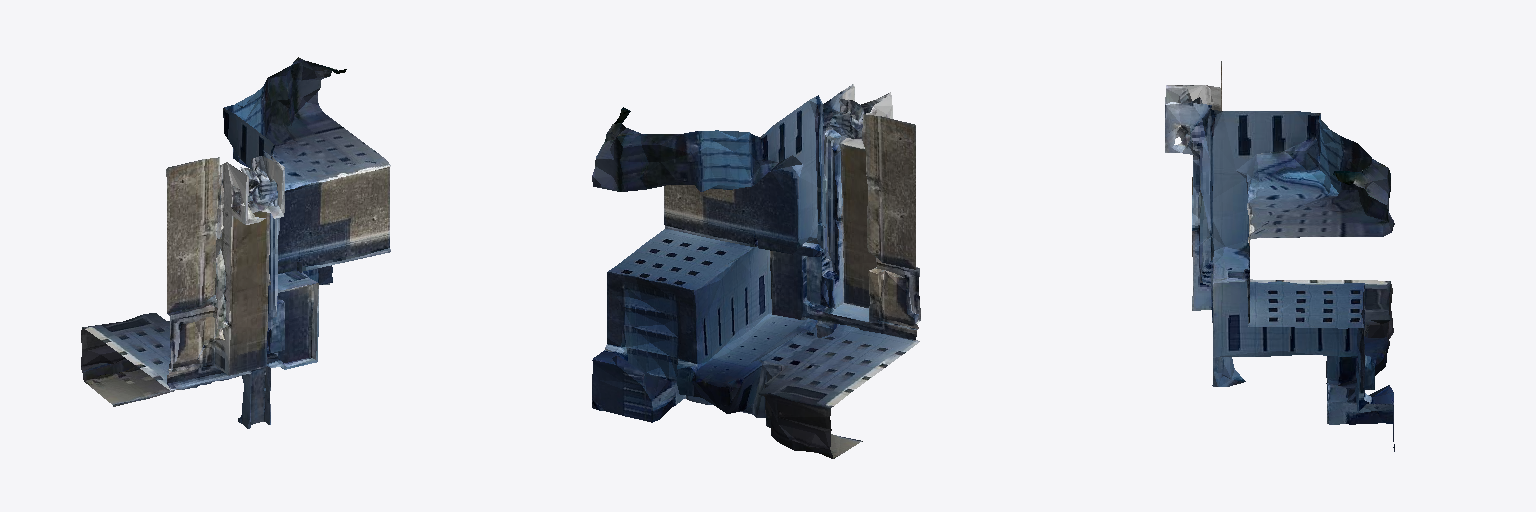
3 views of the same model, side by side, from view 1: azimuth 30°, elevation 25°; view 2: azimuth 150°, elevation 25°; view 3: azimuth 270°, elevation 25° (orthographic).
Visible parts, largest first — view 1: obj_0; view 2: obj_0; view 3: obj_0.
Boxes of the visible parts, box(x1,y1,x2,y2) form: obj_0: box(81, 57, 390, 428); obj_0: box(592, 84, 920, 458); obj_0: box(1165, 61, 1394, 451).
Bounding box in the file's own units: 40.15 × 45.1 × 33.72.
Materials: 1 (1 with a texture image).